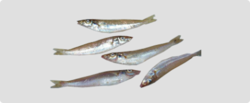kiss: (140, 51, 203, 86), (49, 66, 143, 88), (53, 32, 135, 57), (74, 12, 161, 32)
